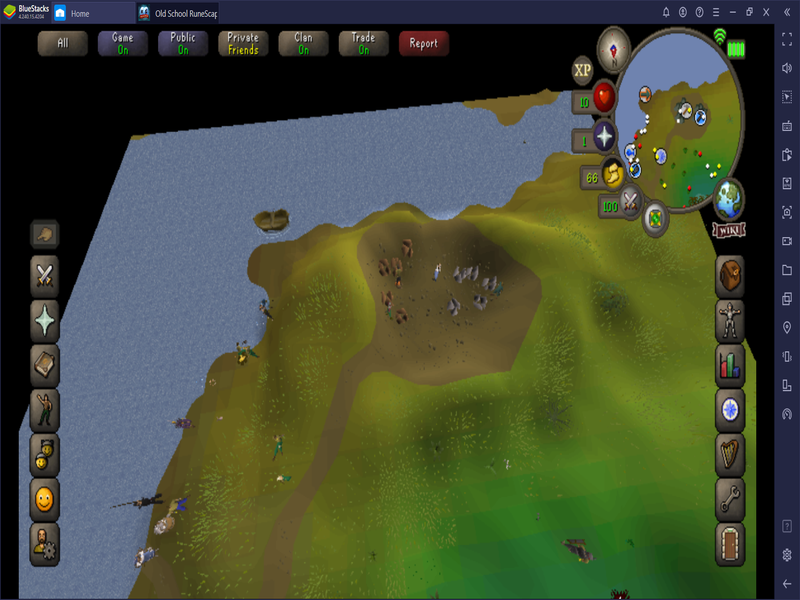copper_rock_1: (395, 308, 410, 326)
copper_rock_2: (378, 290, 396, 307)
